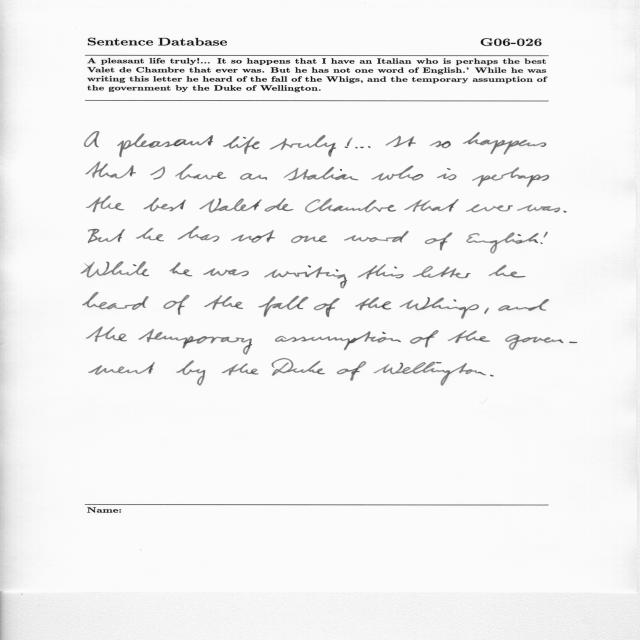word: (139, 329, 253, 355), (373, 361, 486, 386), (275, 331, 401, 350), (117, 133, 213, 157), (264, 265, 347, 289), (463, 132, 546, 155), (400, 297, 479, 319), (466, 232, 539, 254), (472, 167, 549, 187), (270, 135, 336, 157), (305, 198, 396, 213), (83, 292, 149, 310), (505, 334, 577, 350), (81, 262, 149, 278), (258, 296, 309, 317), (284, 167, 359, 181), (272, 358, 325, 376), (199, 198, 262, 213), (175, 163, 226, 180), (89, 362, 155, 375), (86, 162, 136, 179), (372, 165, 424, 181), (344, 231, 409, 243), (176, 360, 206, 386), (404, 199, 459, 212), (357, 264, 404, 279), (413, 266, 470, 278), (178, 226, 220, 242), (223, 136, 260, 154), (86, 327, 127, 342), (498, 299, 549, 311), (87, 196, 125, 212), (143, 198, 186, 212), (204, 295, 243, 310), (337, 361, 366, 381), (231, 230, 275, 243), (448, 330, 490, 343), (410, 330, 439, 348), (164, 295, 190, 315), (89, 229, 126, 243), (425, 233, 453, 251), (314, 298, 340, 317), (489, 265, 526, 278), (355, 297, 391, 310), (222, 363, 258, 376), (203, 268, 249, 277), (265, 198, 293, 212), (135, 228, 164, 241), (466, 204, 513, 212), (517, 204, 560, 212), (386, 136, 416, 147), (170, 262, 193, 276), (291, 235, 327, 243), (85, 132, 100, 148), (437, 168, 457, 180), (150, 167, 165, 180), (240, 173, 267, 180), (430, 141, 451, 149), (344, 137, 353, 148), (543, 231, 548, 238), (355, 146, 371, 148), (485, 308, 490, 314), (563, 211, 567, 213), (490, 375, 494, 377), (540, 243, 543, 244)
